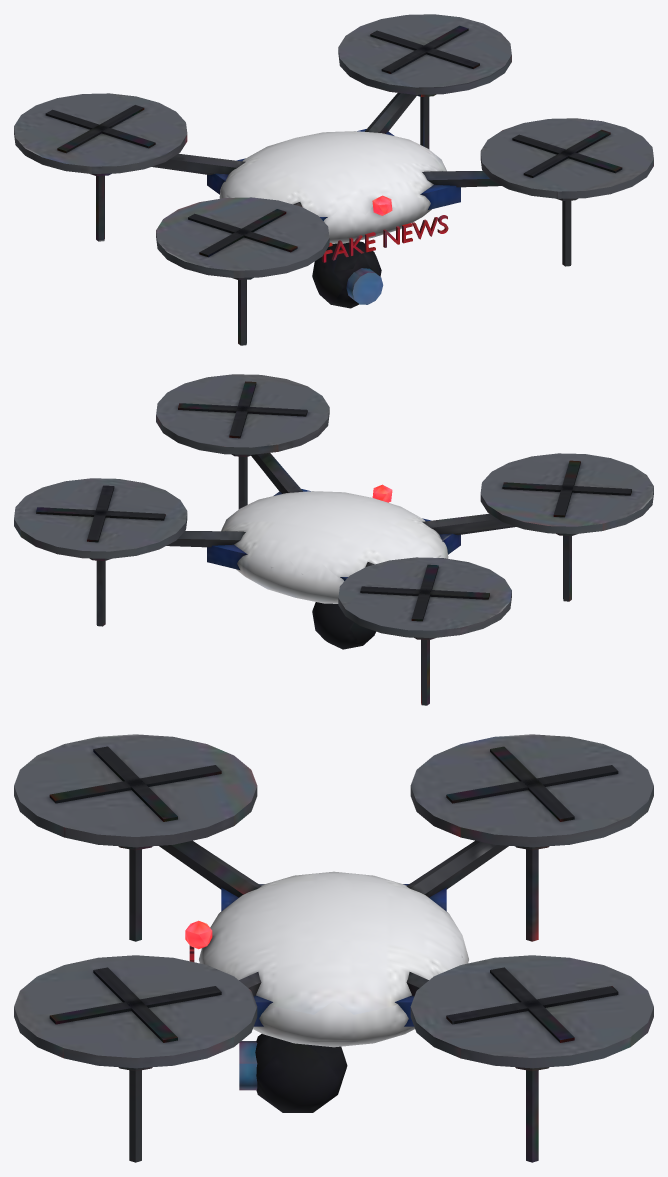
File: dron_tele.glb
3 renders of one model, top to bottom at view 1: azimuth 30°, elevation 25°; view 2: azimuth 150°, elevation 25°; view 3: azimuth 270°, elevation 25°, orthographic. The views are drawn at different scales.
Visible parts, largest first — view 1: dron_tele; view 2: dron_tele; view 3: dron_tele.
Part boxes in pixels (x1,y1,x2,y2): dron_tele: [14, 14, 653, 345]; dron_tele: [14, 374, 653, 705]; dron_tele: [14, 734, 653, 1162].
Bounding box in the file's own units: 1.7 × 0.532 × 1.42.
1 material, 1 textured.
